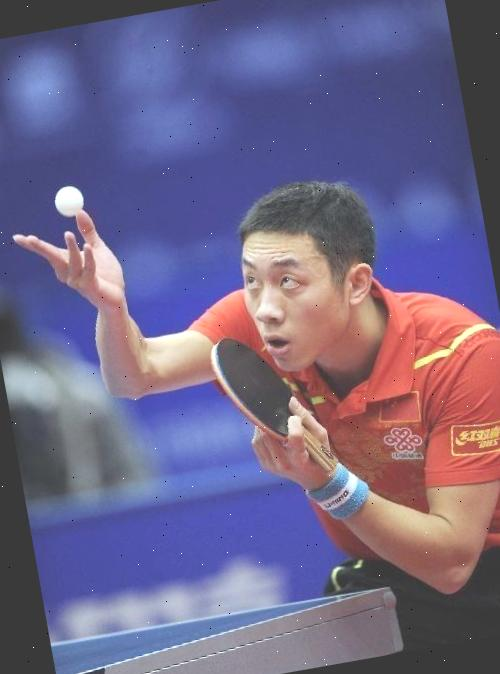ball: (45, 177, 90, 222)
